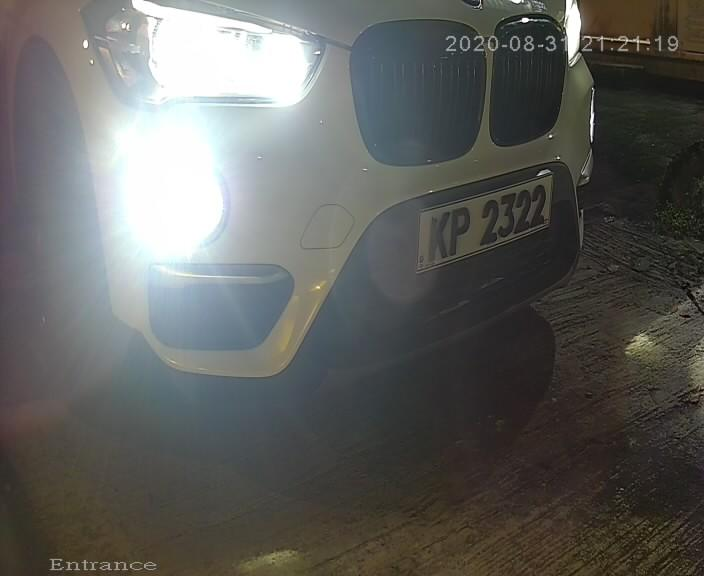License Plate: (412, 165, 551, 281)
